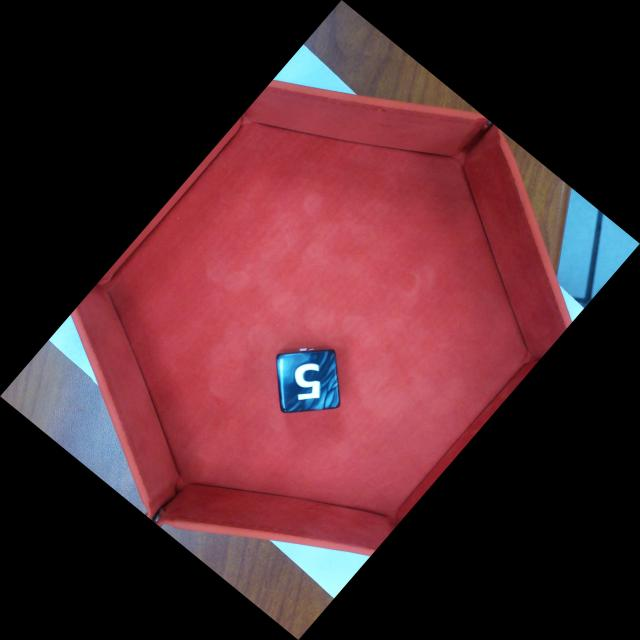dice: (281, 353, 338, 412)
